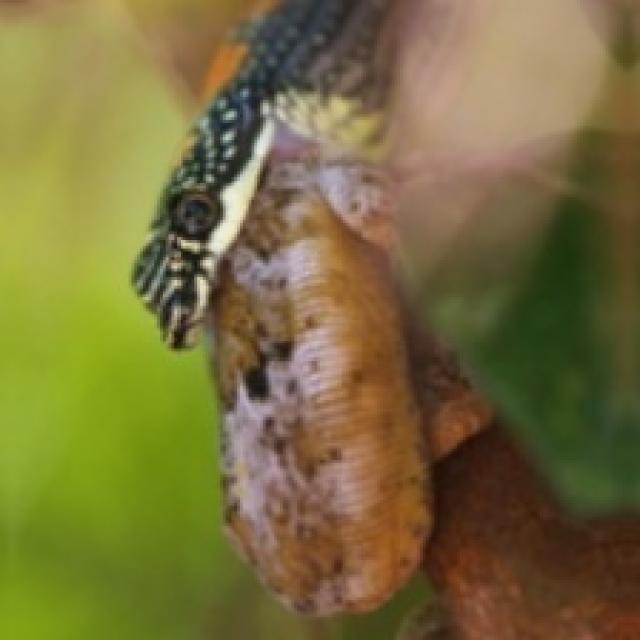paradise tree snake: (131, 0, 637, 637), (131, 0, 489, 611)
